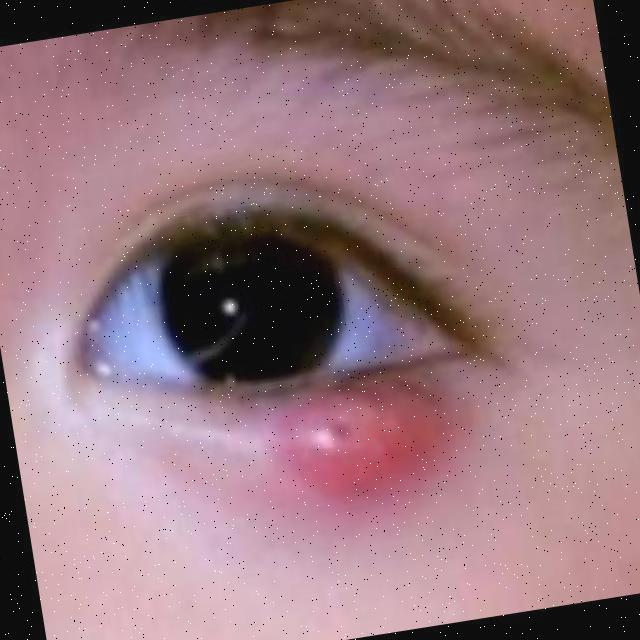Stye: (212, 306, 469, 542)
